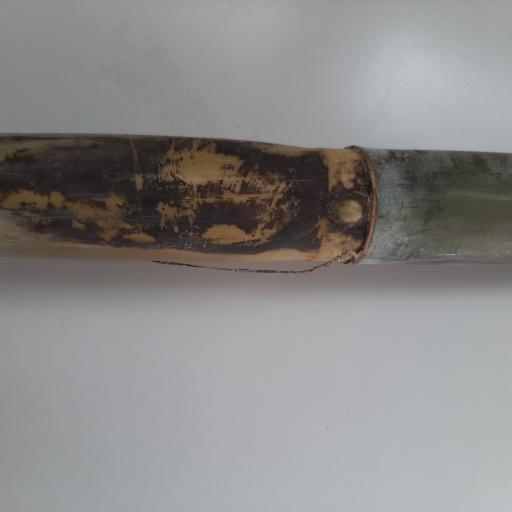Bud: (329, 198, 364, 225)
